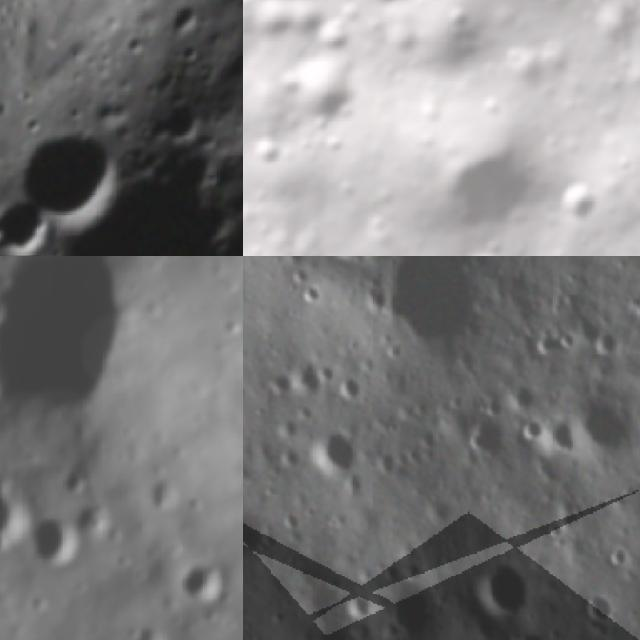crater: (14, 128, 243, 256), (0, 256, 137, 431), (14, 96, 156, 244), (412, 117, 554, 256), (278, 39, 372, 128), (0, 185, 59, 256), (549, 171, 612, 237), (243, 127, 302, 181), (469, 568, 528, 621), (312, 431, 365, 483), (32, 516, 82, 570), (172, 560, 230, 602), (0, 491, 35, 550), (147, 473, 184, 516), (582, 592, 618, 629), (585, 332, 629, 360), (442, 0, 479, 33), (511, 409, 543, 446), (61, 462, 89, 497), (334, 375, 368, 403), (602, 544, 638, 567), (135, 617, 170, 640), (344, 594, 373, 621), (217, 313, 243, 342), (552, 328, 574, 353), (300, 284, 322, 307), (328, 256, 365, 266), (508, 629, 541, 640)
